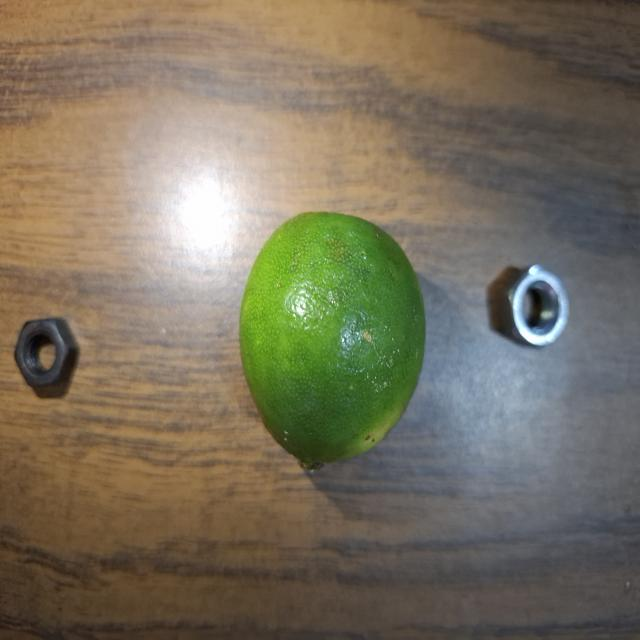limon: (236, 210, 430, 476)
milimetrico: (11, 314, 88, 402)
tuerca: (499, 264, 579, 372)
